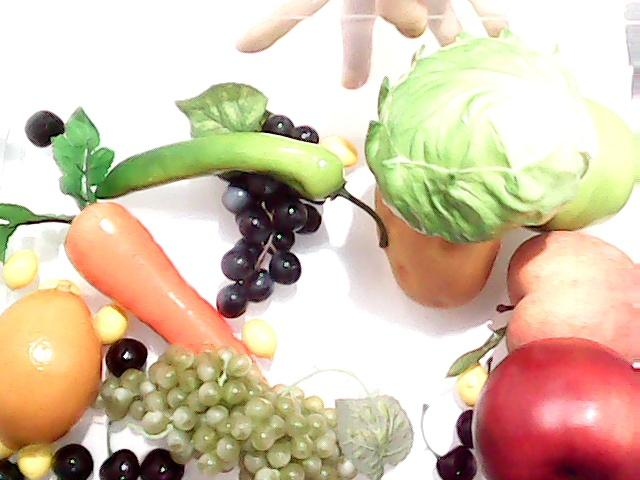apple: (466, 332, 640, 476), (528, 98, 640, 230)
cabbage: (368, 35, 592, 231)
carrot: (0, 108, 256, 364)
grape: (92, 347, 382, 480), (205, 100, 325, 324)
lemon: (0, 280, 104, 459)
peach: (496, 228, 640, 368)
pepper: (88, 126, 356, 214)
potato: (376, 178, 504, 310)
